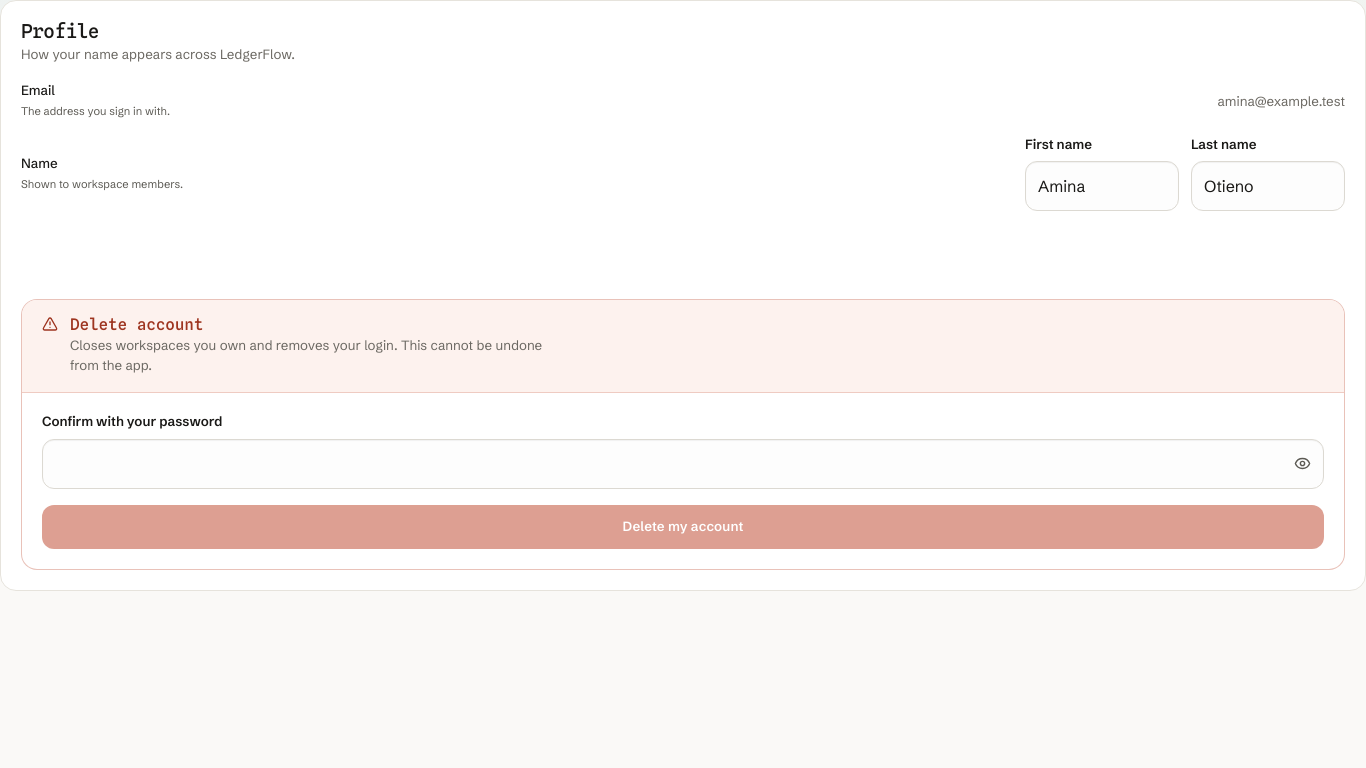
Scenario: ProfilePanel autosave › confirms the save, because autosave without confirmation is worse than a button
Type "!" into the field labelled "Last name" at (1268, 186), box 1191,161 -> 1345,211
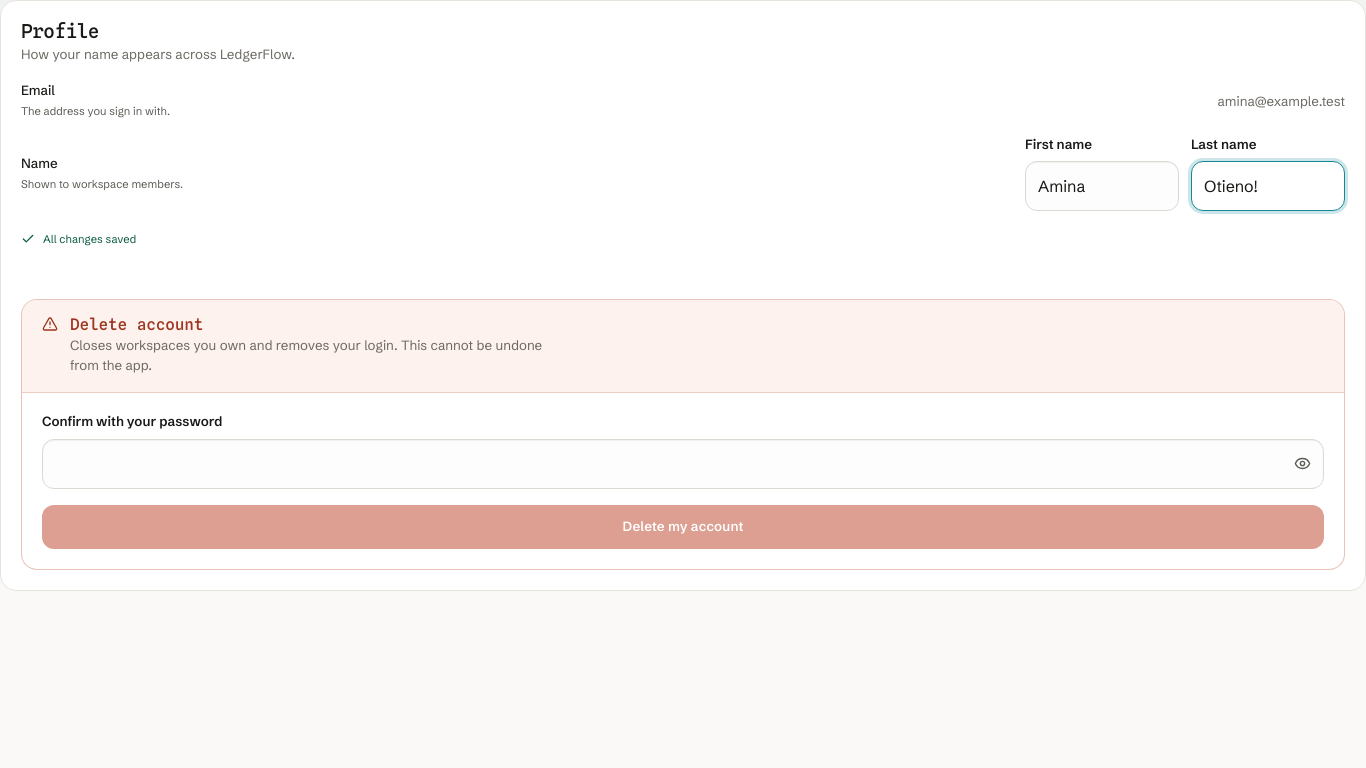
expect the text "All changes saved" is shown: met, box 21,232 -> 136,246
